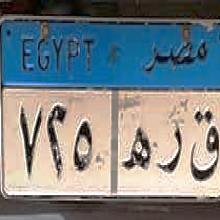2: (46, 100, 68, 182)
5: (70, 114, 94, 177)
7: (18, 97, 43, 183)
haa: (120, 121, 152, 178)
qaaf: (189, 103, 220, 185)
raa: (155, 114, 184, 179)
